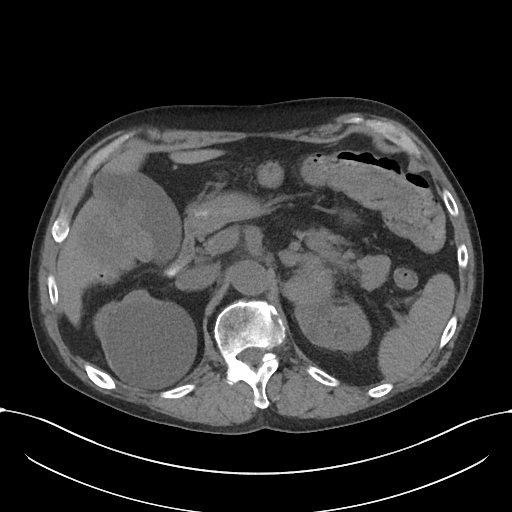Lesion: (103, 296, 198, 392)
